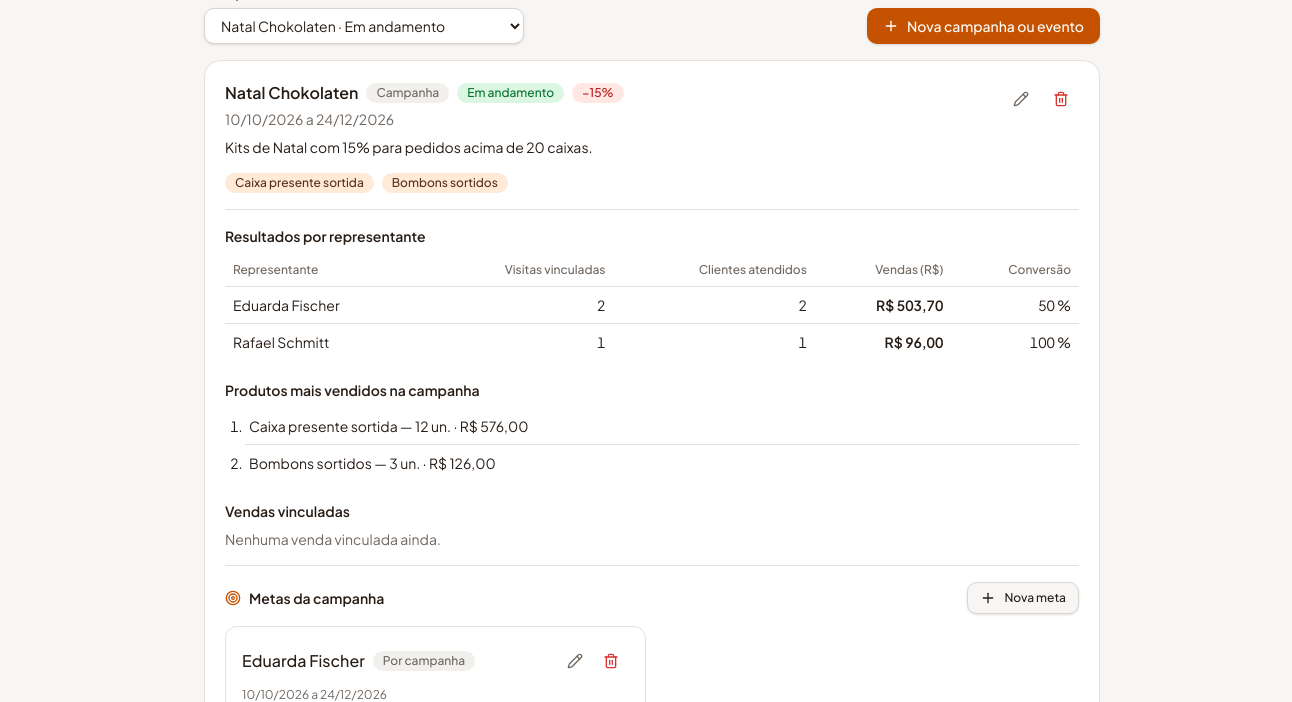
it: CampanhasPage — filtro por campanha › voltar para "Todas as campanhas" tira o parâmetro e preserva os outros
Select "Todas as campanhas" in the dropdown labelled "Campanha" at (364,26), box [204,8,524,44]
(page scrolled)
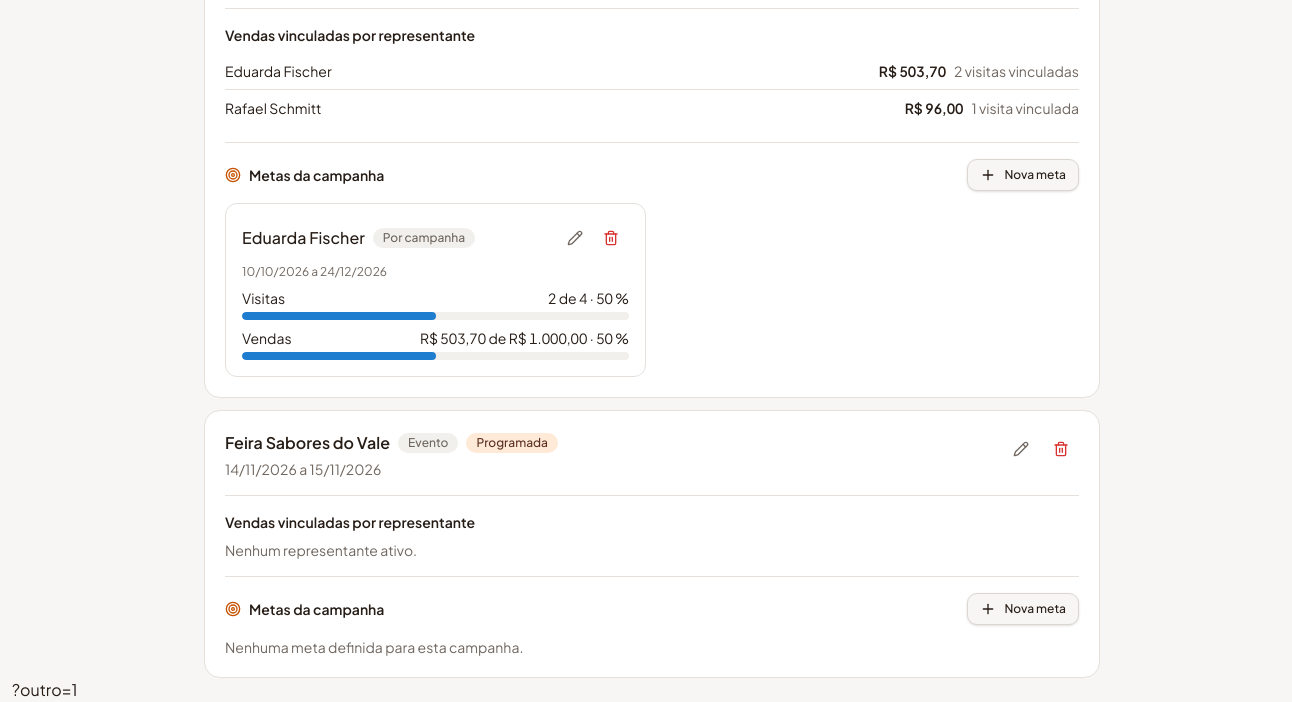
Check: the text with test id "busca" reads "?outro=1", box [12,679,77,700]
